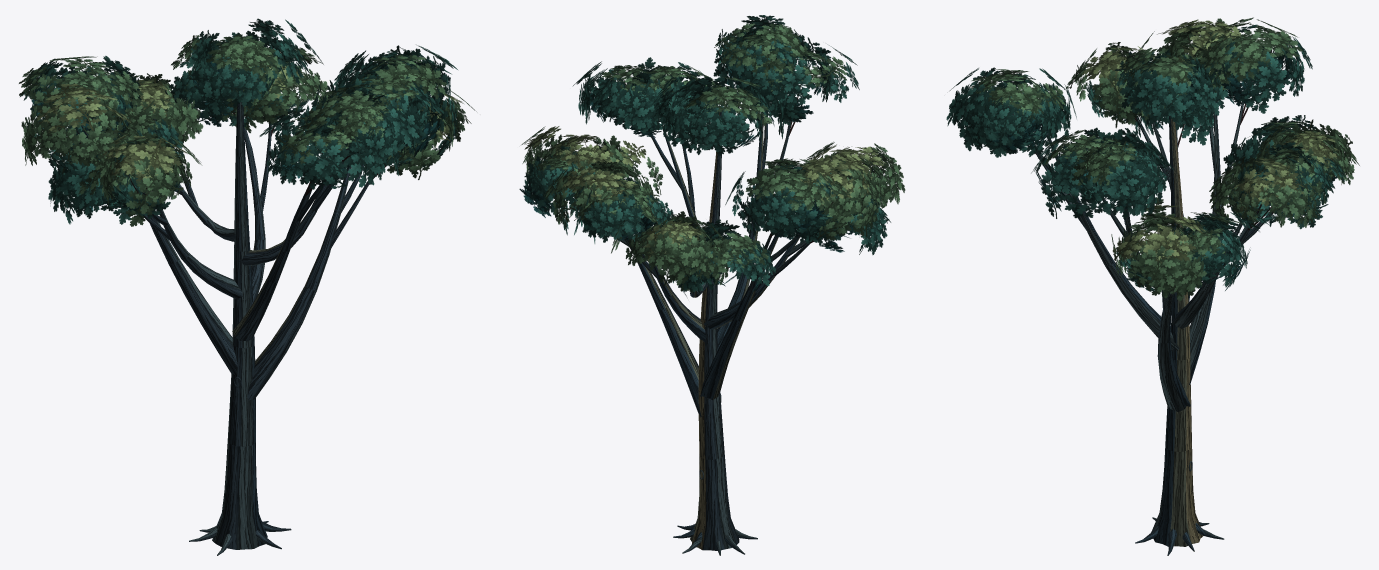
Rendered from forest_column.glb.
3 views of the same model, side by side, from view 1: azimuth 30°, elevation 25°; view 2: azimuth 150°, elevation 25°; view 3: azimuth 270°, elevation 25° (orthographic). The views are drawn at different scales.
Visible parts, largest first — view 1: forest_column; view 2: forest_column; view 3: forest_column.
Boxes of the visible parts, left/top/right/bottom form: forest_column: left=19, top=18, right=476, bottom=555; forest_column: left=519, top=15, right=905, bottom=555; forest_column: left=946, top=17, right=1359, bottom=555.
Size of the model in its own units: 17.81 by 20.32 by 16.23.
Materials: 2 (2 with a texture image).
